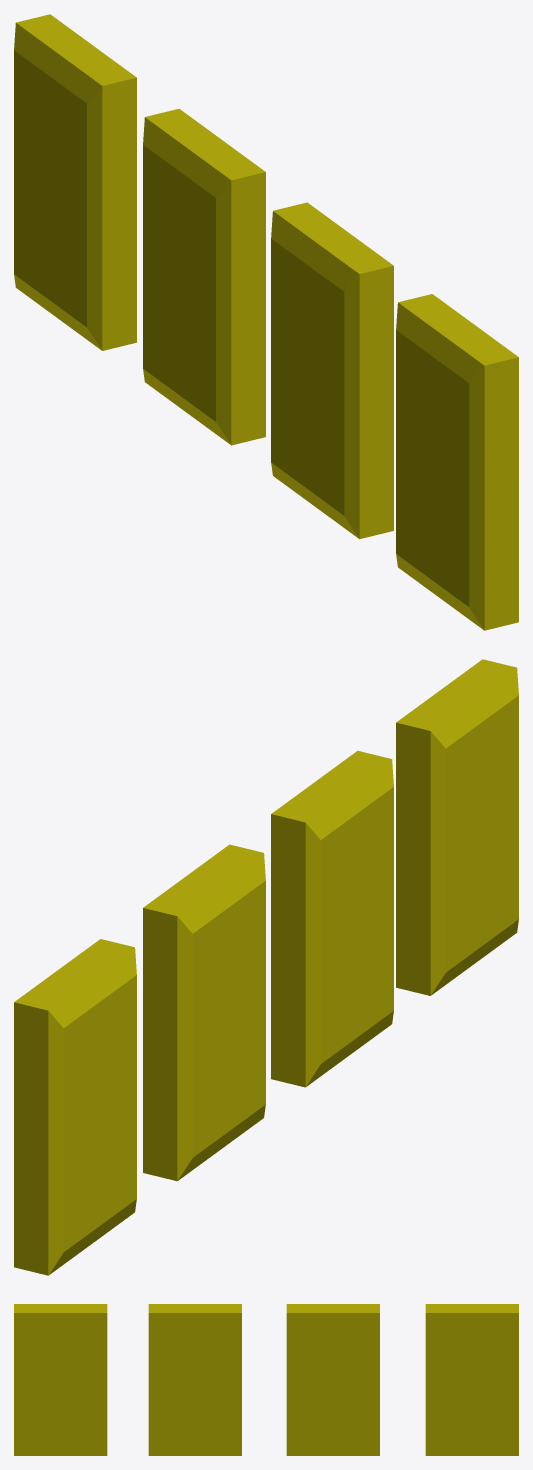
The model's file is Button.fbx.
The picture shows the model from 3 angles, top to bottom: view 1: azimuth 30°, elevation 25°; view 2: azimuth 150°, elevation 25°; view 3: azimuth 270°, elevation 25°; orthographic projection. The views are drawn at different scales.
Parts seen in each view (by area): view 1: Button2, Button1, Button3, Button4; view 2: Button3, Button4, Button1, Button2; view 3: Button1, Button2, Button3, Button4.
Part boxes in pixels (x1=…): Button2: x1=143, y1=108, x2=265, y2=445; Button1: x1=14, y1=14, x2=136, y2=350; Button3: x1=271, y1=202, x2=393, y2=539; Button4: x1=396, y1=294, x2=518, y2=630; Button3: x1=271, y1=751, x2=393, y2=1087; Button4: x1=396, y1=659, x2=518, y2=995; Button1: x1=14, y1=939, x2=136, y2=1275; Button2: x1=143, y1=844, x2=265, y2=1181; Button1: x1=425, y1=1304, x2=518, y2=1455; Button2: x1=286, y1=1304, x2=379, y2=1455; Button3: x1=148, y1=1304, x2=241, y2=1455; Button4: x1=14, y1=1304, x2=107, y2=1455.
Size of the model in its own units: 4.91 by 28.87 by 92.54.
